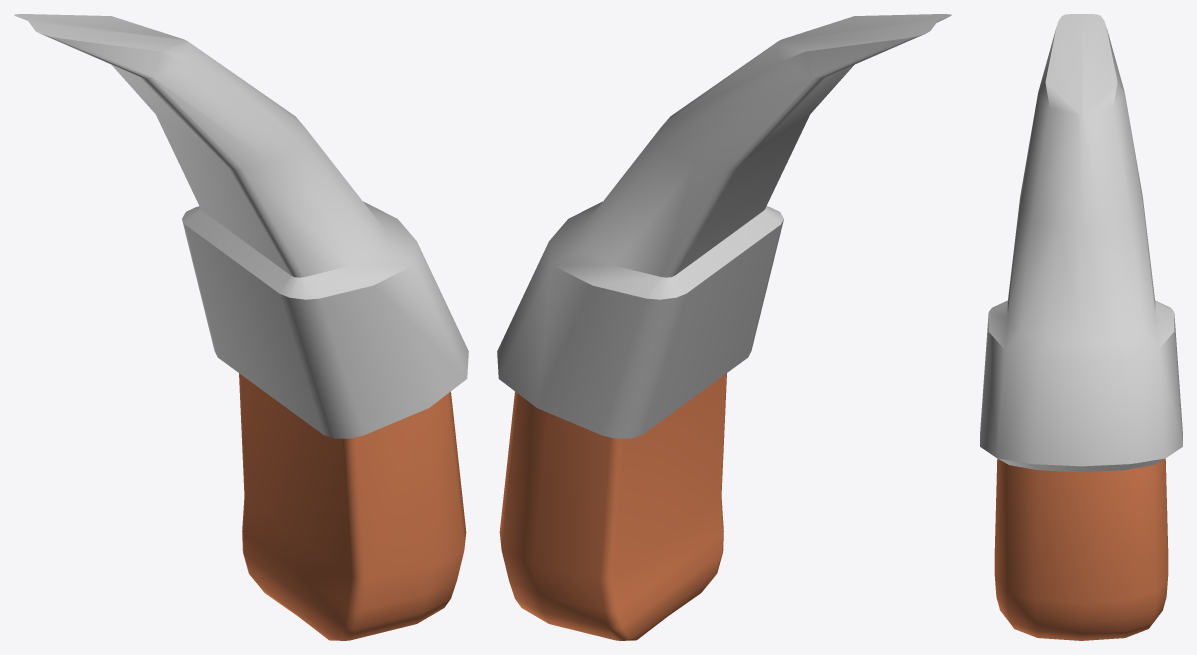
File: character_builder_armLeft.obj
3 views of the same model, side by side, from view 1: azimuth 30°, elevation 25°; view 2: azimuth 150°, elevation 25°; view 3: azimuth 270°, elevation 25° (orthographic). The views are drawn at different scales.
Parts seen in each view (by area): view 1: character_builder_armLeft_Cube.233; view 2: character_builder_armLeft_Cube.233; view 3: character_builder_armLeft_Cube.233.
Part boxes in pixels (bbox=[...]): character_builder_armLeft_Cube.233: bbox=[14, 14, 468, 640]; character_builder_armLeft_Cube.233: bbox=[497, 14, 951, 640]; character_builder_armLeft_Cube.233: bbox=[980, 14, 1182, 640].
Size of the model in its own units: 0.3775 by 0.5708 by 0.2116.
